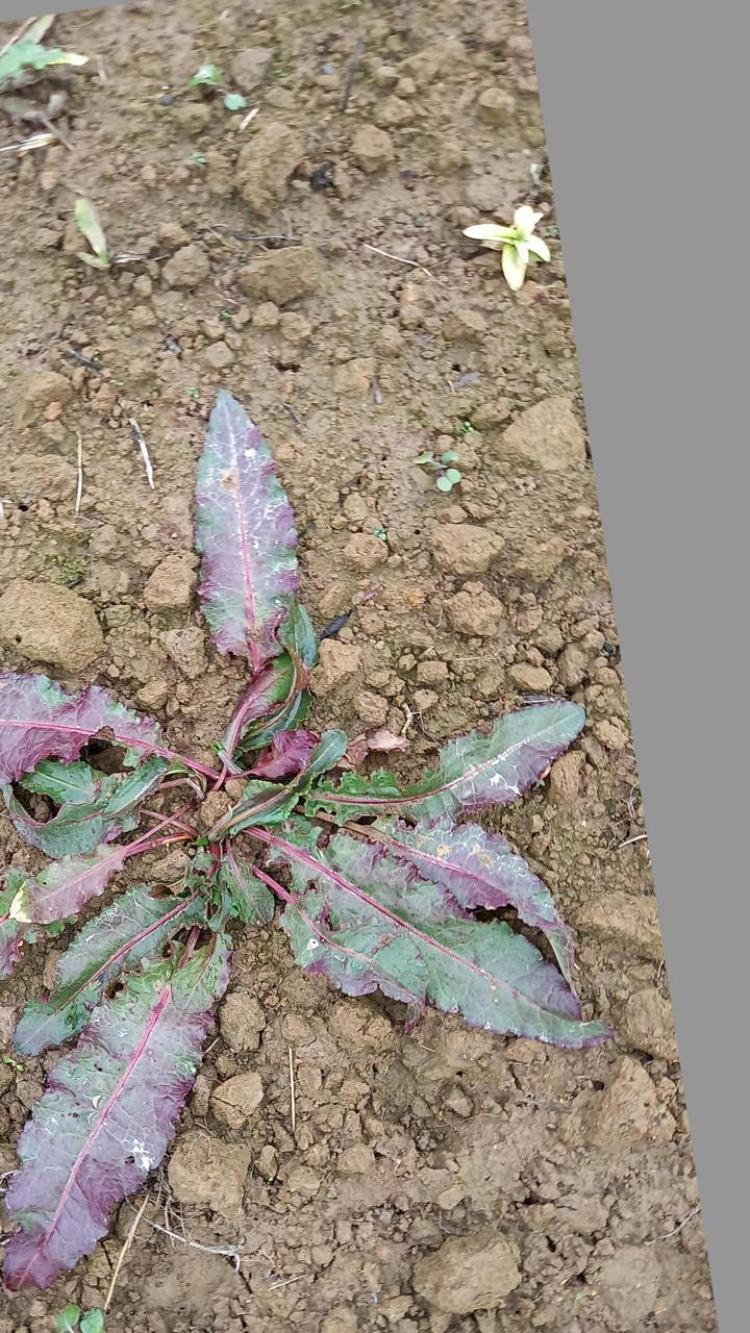zhavel: (0, 388, 615, 1288)
